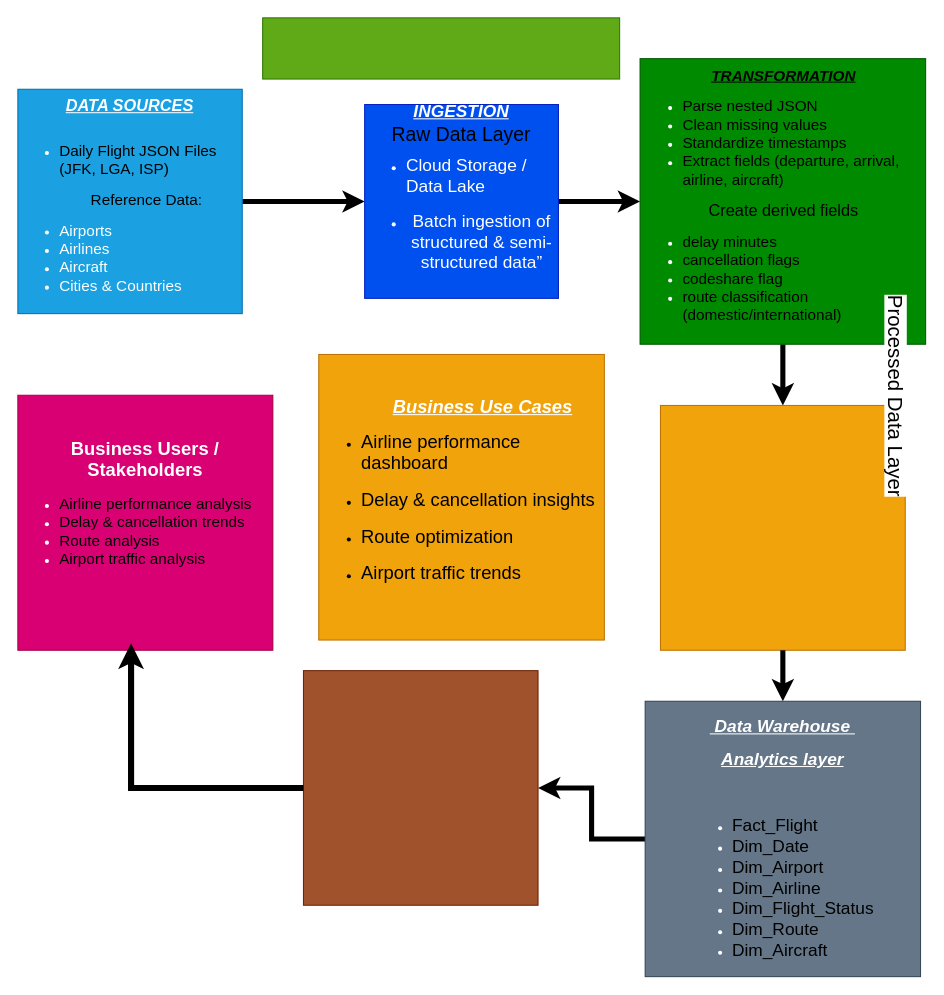
Image size: 944x995. Some labels were removed from this diagram. Here are the shapes that lost their labels. From the top down, the centre of each, then its label:
At (x=441, y=48): "PRODUCT ARCHITECTURE".
At (x=782, y=527): "DATA ENRICHMENT airport data airline data aircraft data city & country data".
At (x=420, y=787): "Serving Layer SQL queries Tableau / Power BI Python visualizations".
